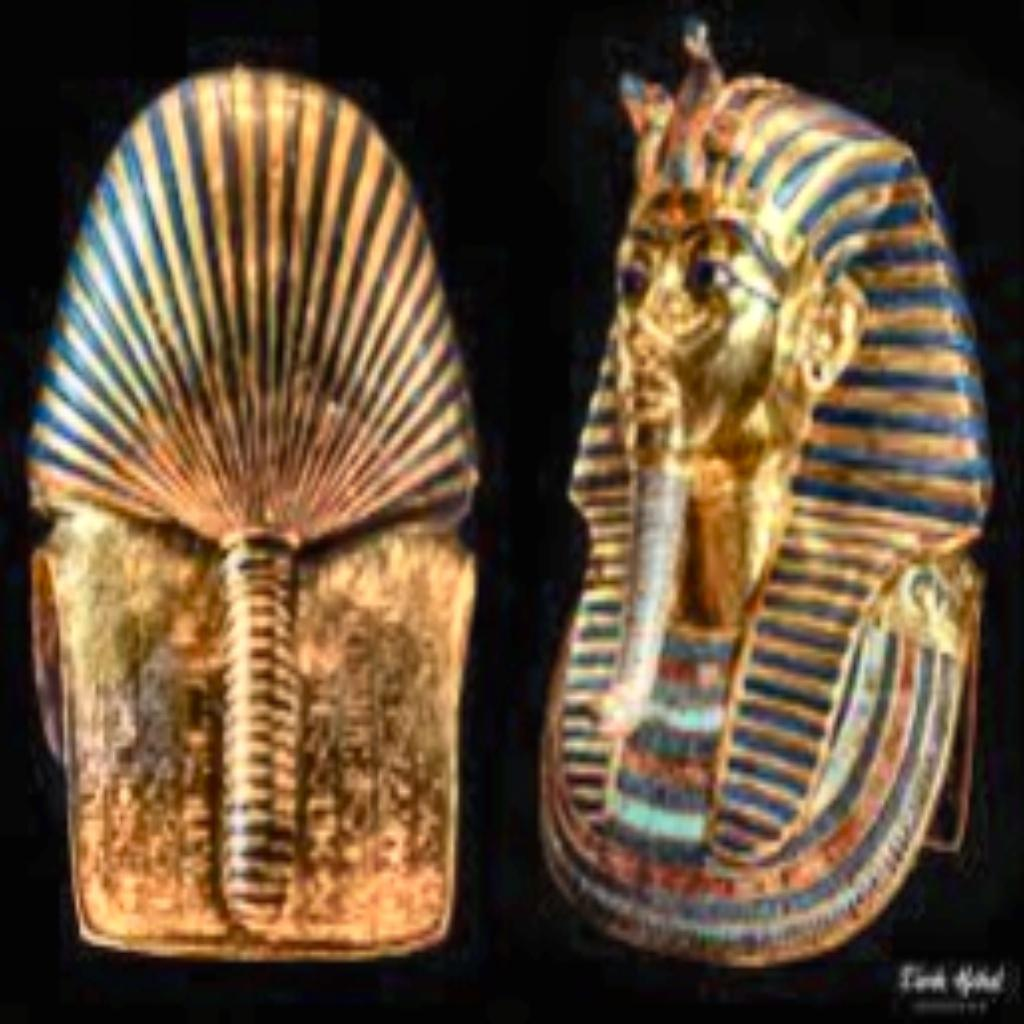Mask of Tutankhamun: (538, 10, 996, 966), (20, 58, 482, 962)
